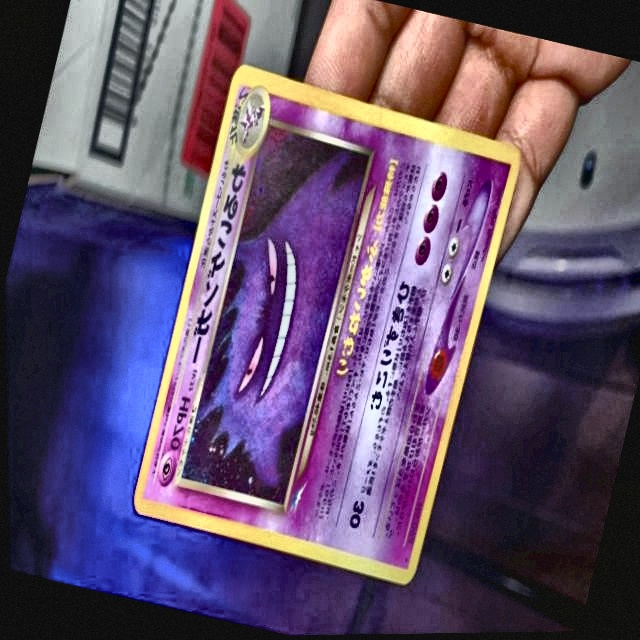card: (131, 60, 521, 588)
